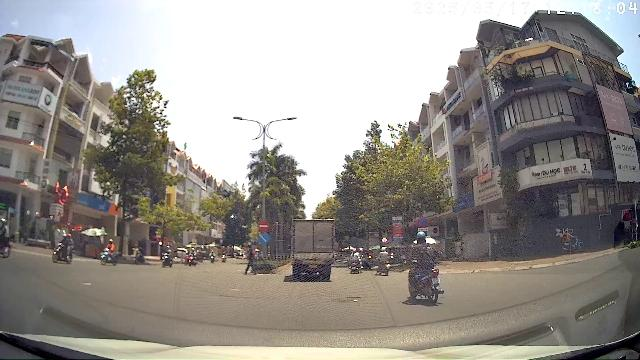102-cam-di-nguoc-chieu: (258, 219, 270, 232)
302a-huong-phai-di-vong-chuong-ngai-vat-1: (258, 232, 270, 244)
